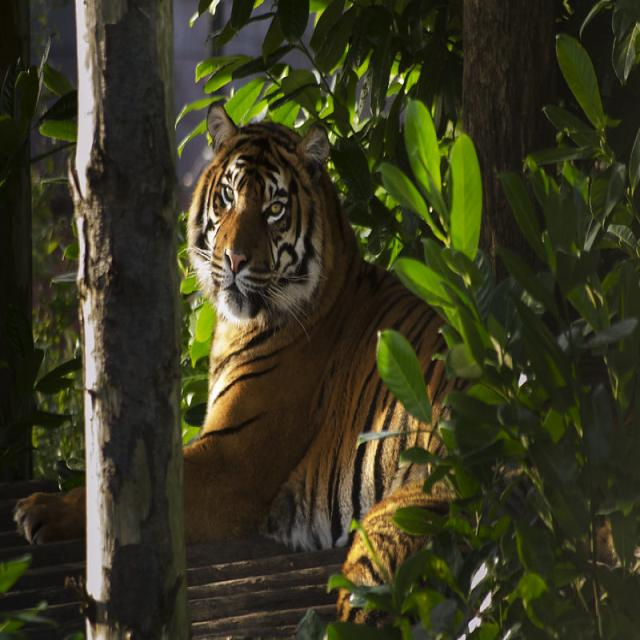Tiger: (16, 92, 638, 629)
